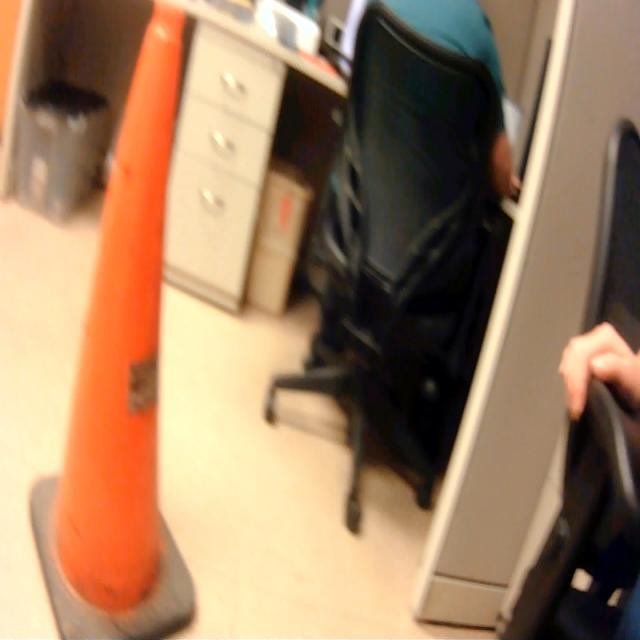traffic cone: (24, 1, 201, 640)
